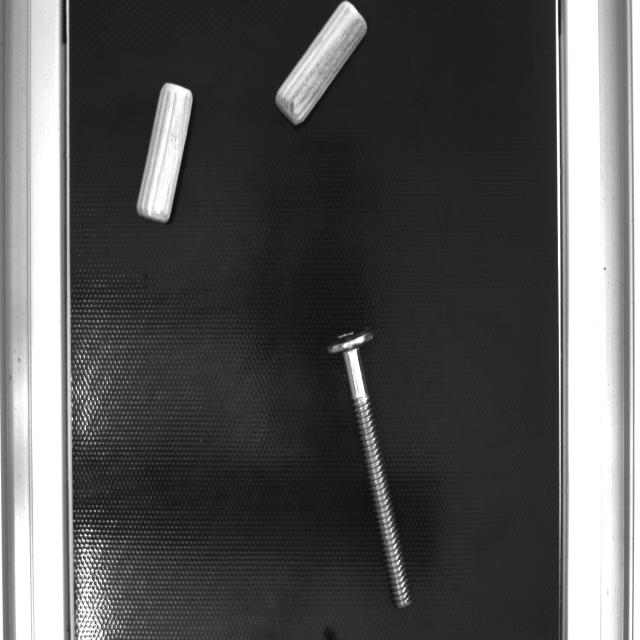Chot go: (270, 0, 371, 127), (134, 79, 196, 225)
bulon: (342, 350, 414, 612)
